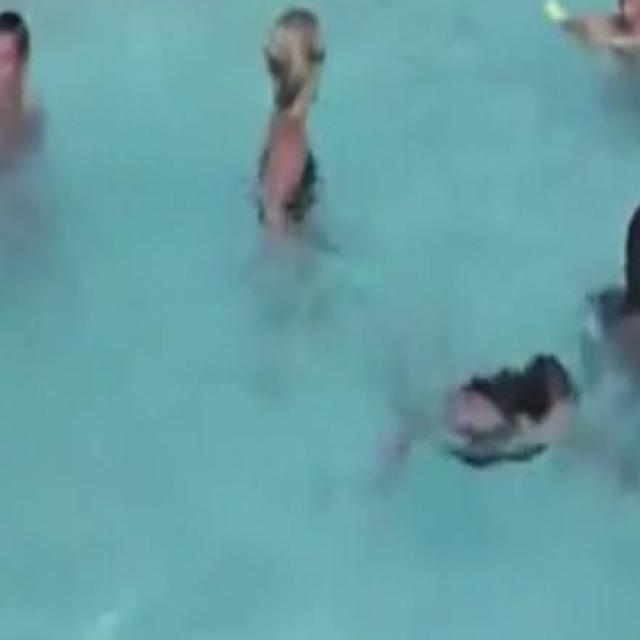Swimming: (361, 346, 639, 486), (239, 0, 344, 255), (0, 6, 56, 175)
